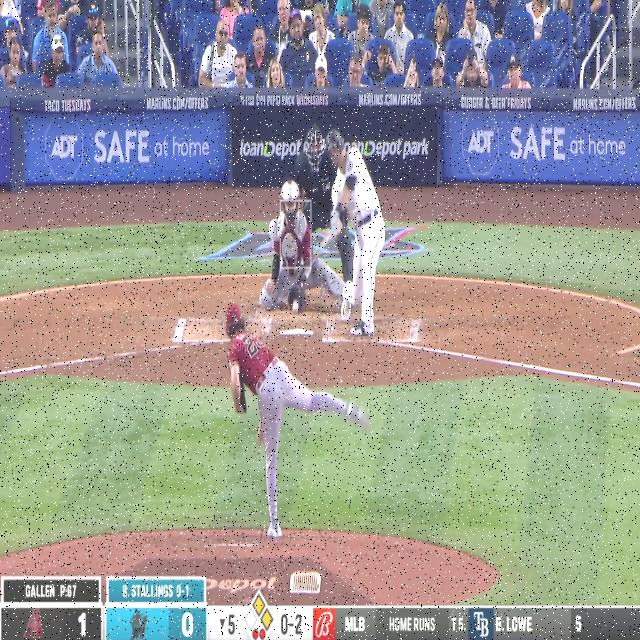baseball: (292, 298, 300, 315)
